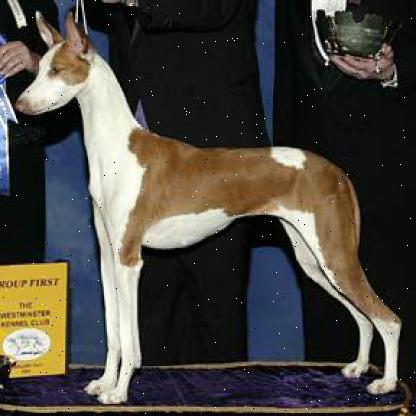dog: (16, 3, 414, 415)
